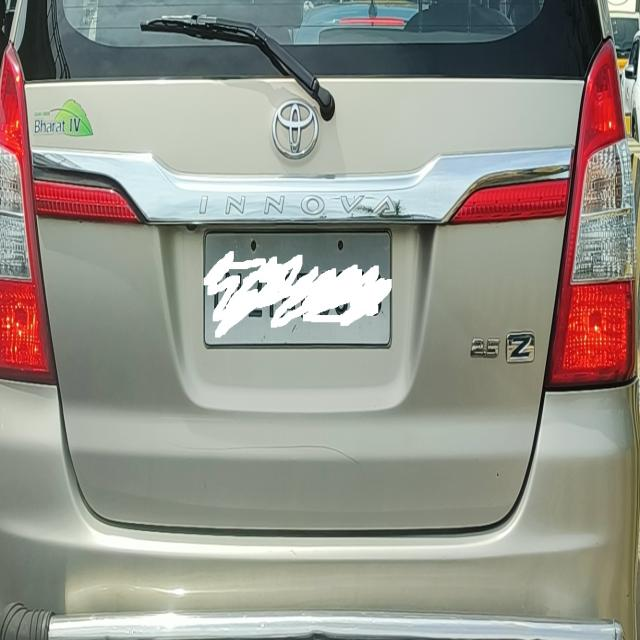scratch: (168, 441, 370, 491)
